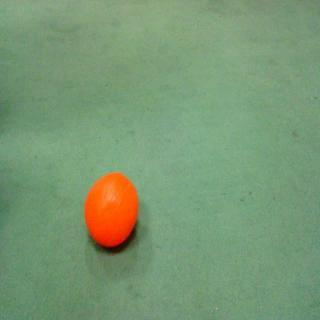orange: (82, 167, 142, 254)
